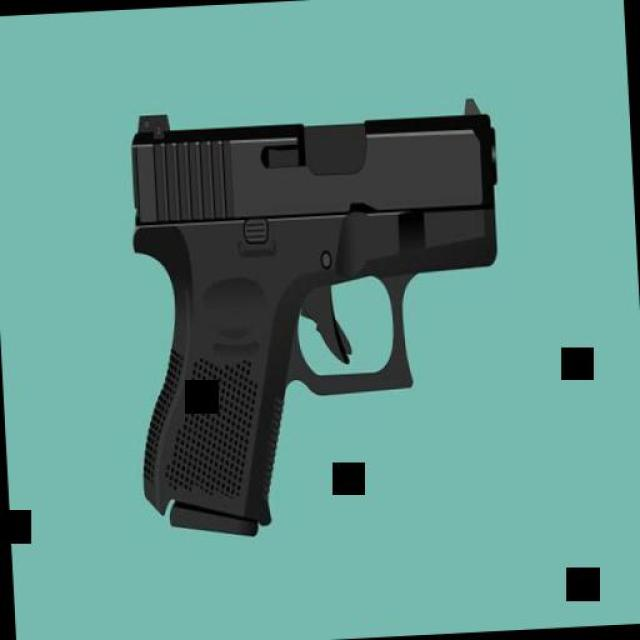gun: (120, 85, 514, 547)
